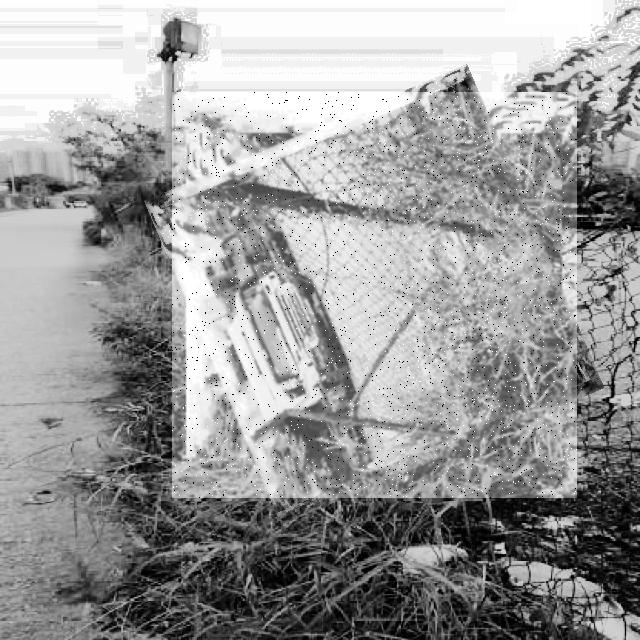anomaly-fence: (172, 92, 577, 498)
